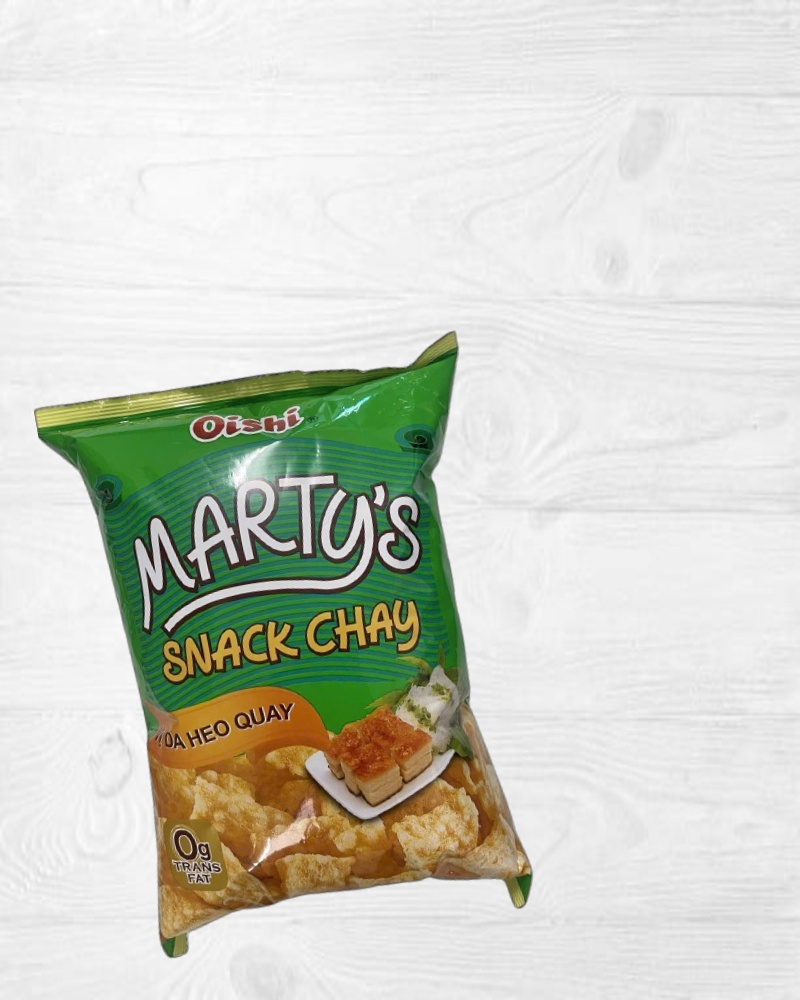Snack chay: (34, 331, 557, 977)
